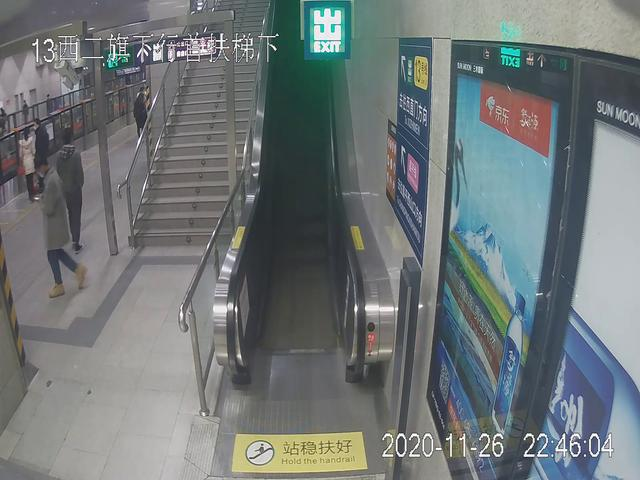person: (31, 152, 87, 298), (49, 129, 87, 248), (17, 125, 35, 198), (33, 115, 49, 190), (133, 86, 152, 149)
